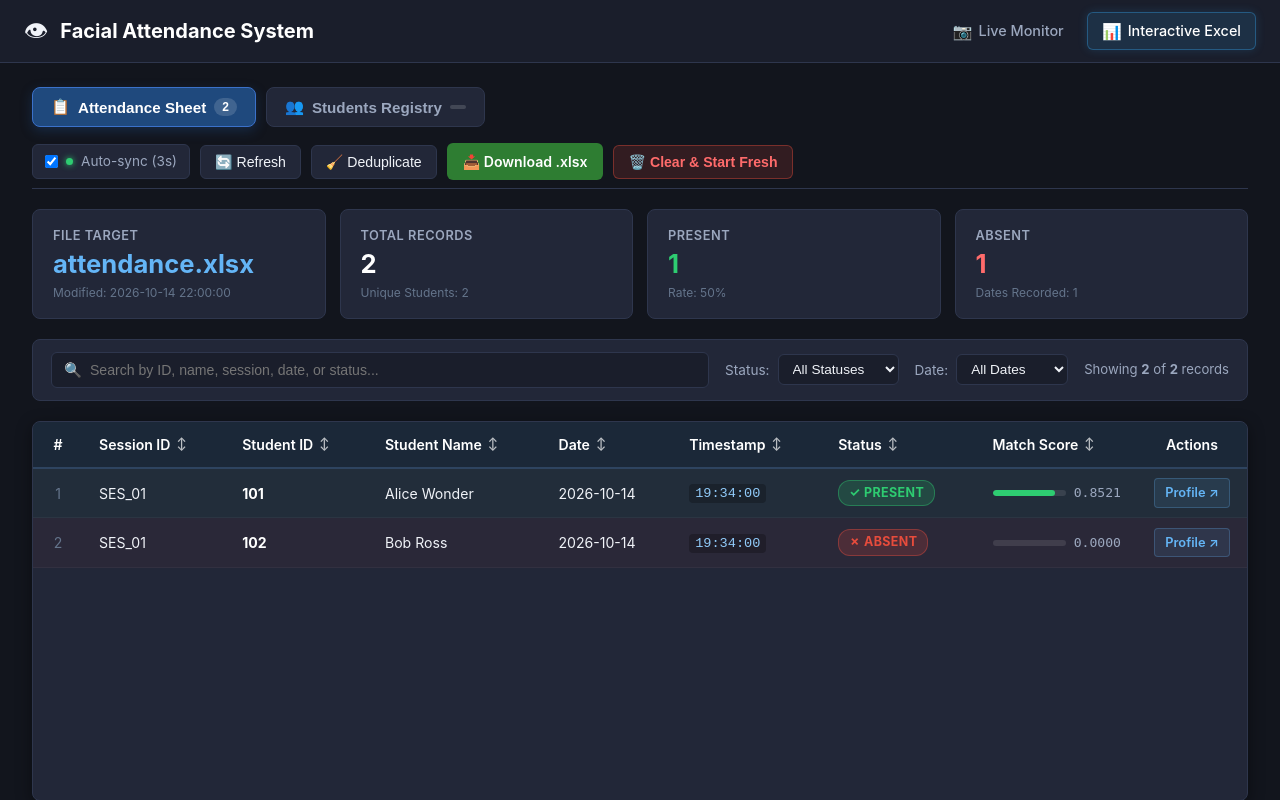
Test: ExcelViewerPage Component › opens clear confirmation modal when Clear & Start Fresh is clicked
The image size is (1280, 800).
Expected: the text "Alice Wonder" is shown, [385,484,474,502]
Click the button "🗑️ Clear & Start Fresh" at (703, 162), box [614,144,792,178]
(page scrolled)
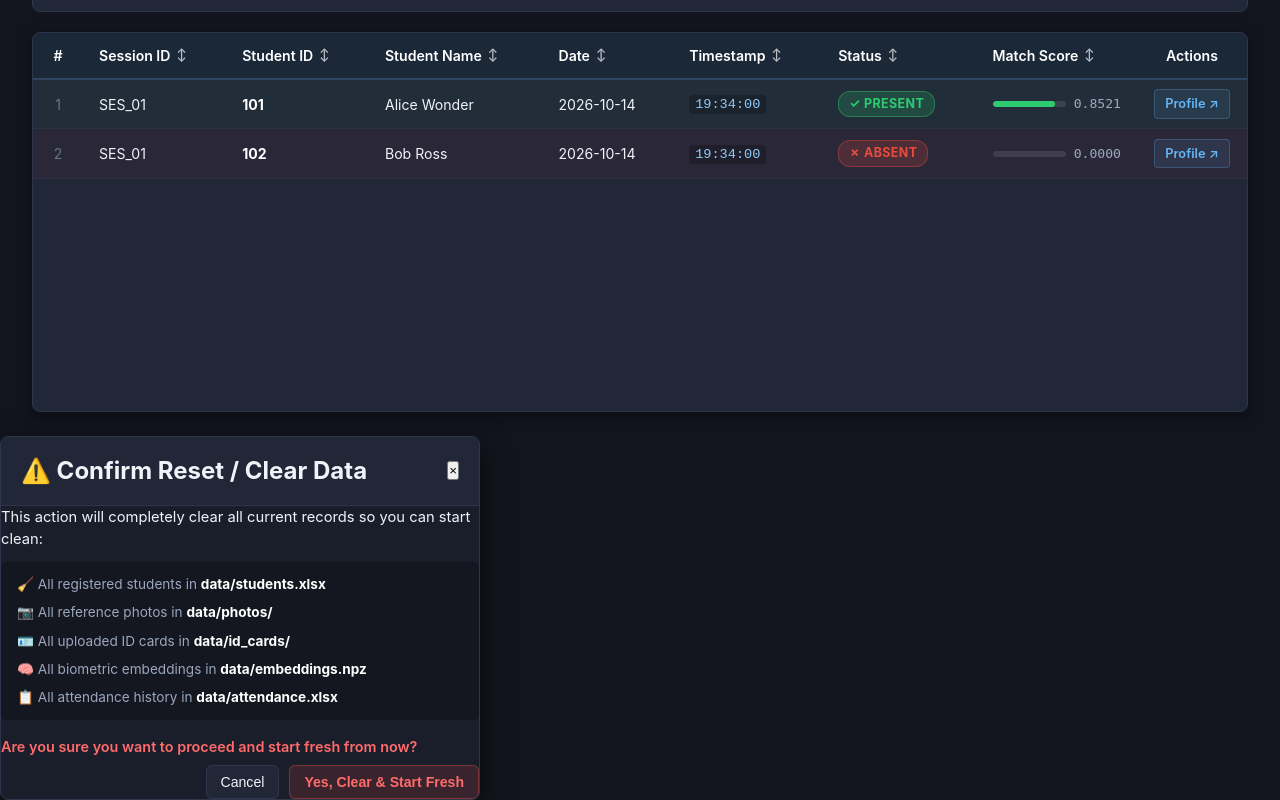
Expected: the heading "⚠️ Confirm Reset / Clear Data" is shown, [21,453,367,489]
Expected: the button "Yes, Clear & Start Fresh" is shown, [289,765,479,799]
